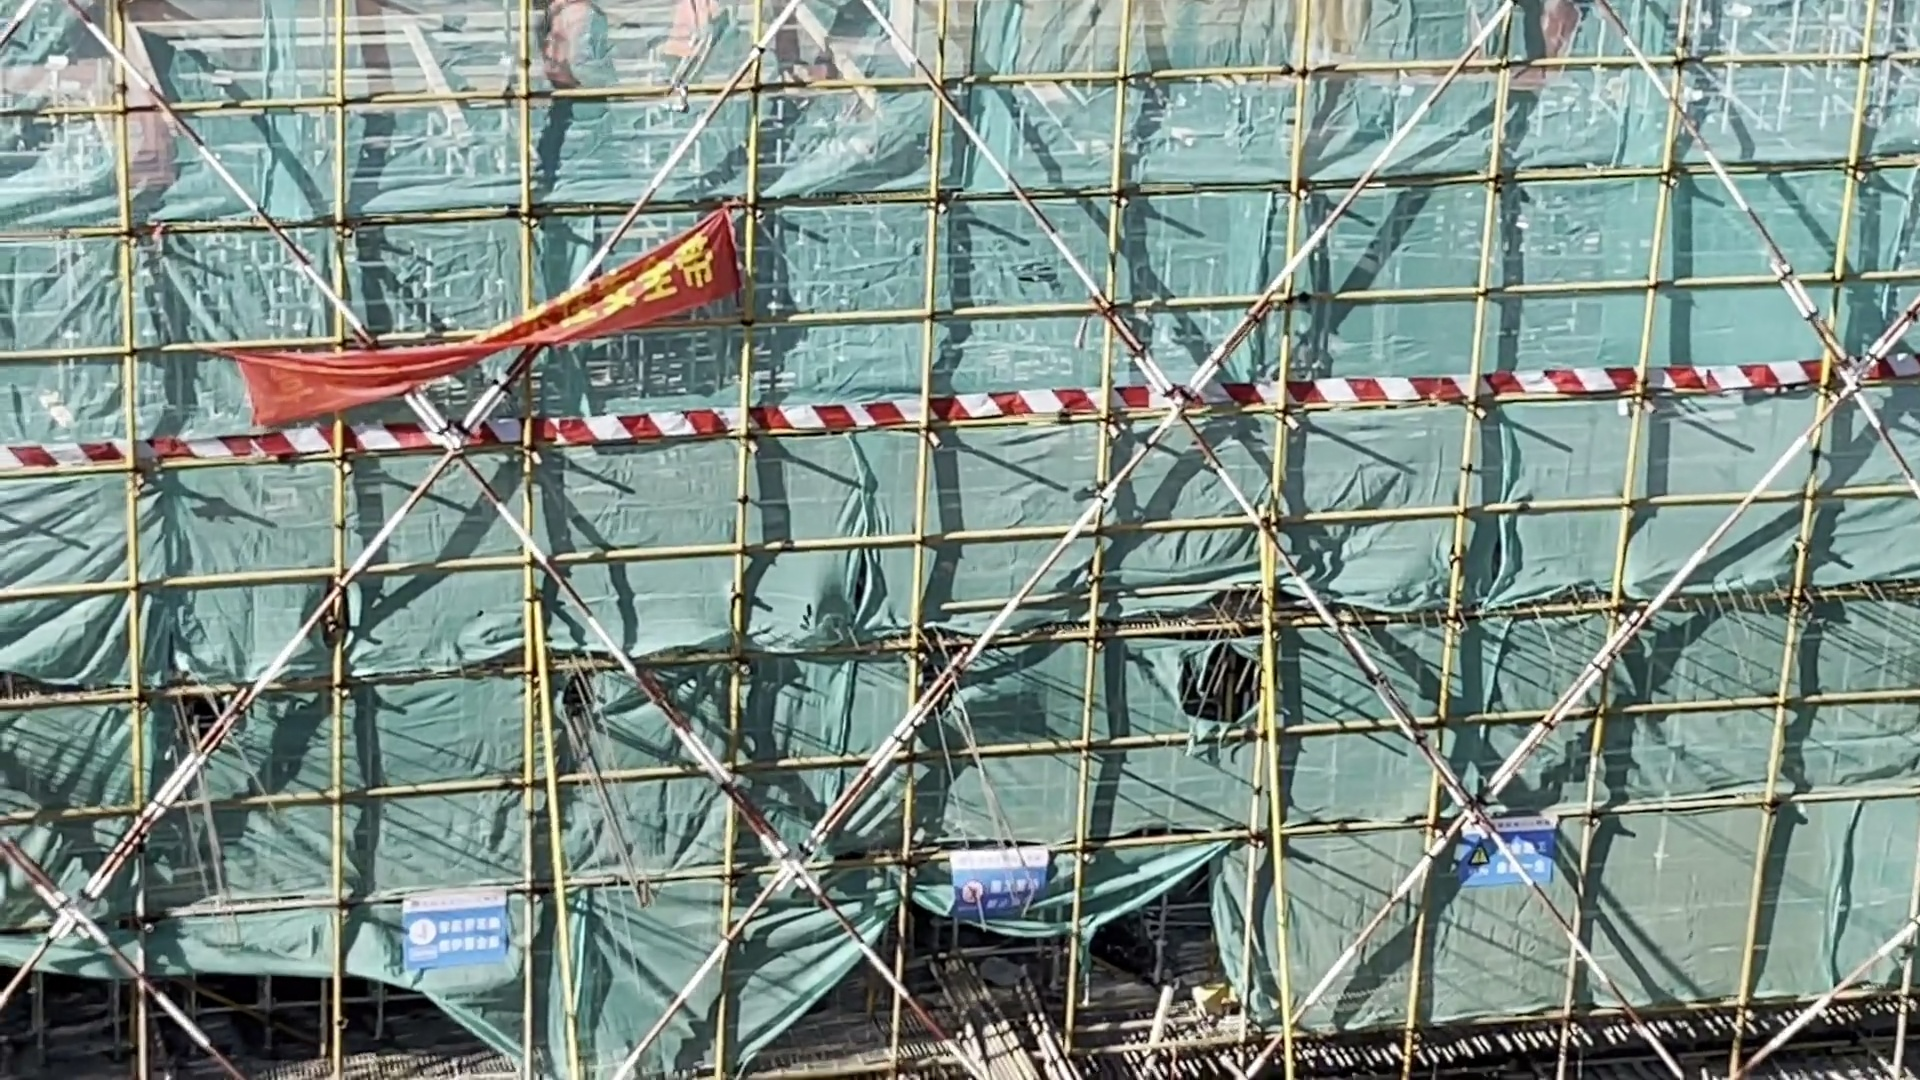slogan: (224, 189, 764, 439), (1436, 794, 1571, 894), (947, 820, 1055, 943), (404, 882, 516, 982)
